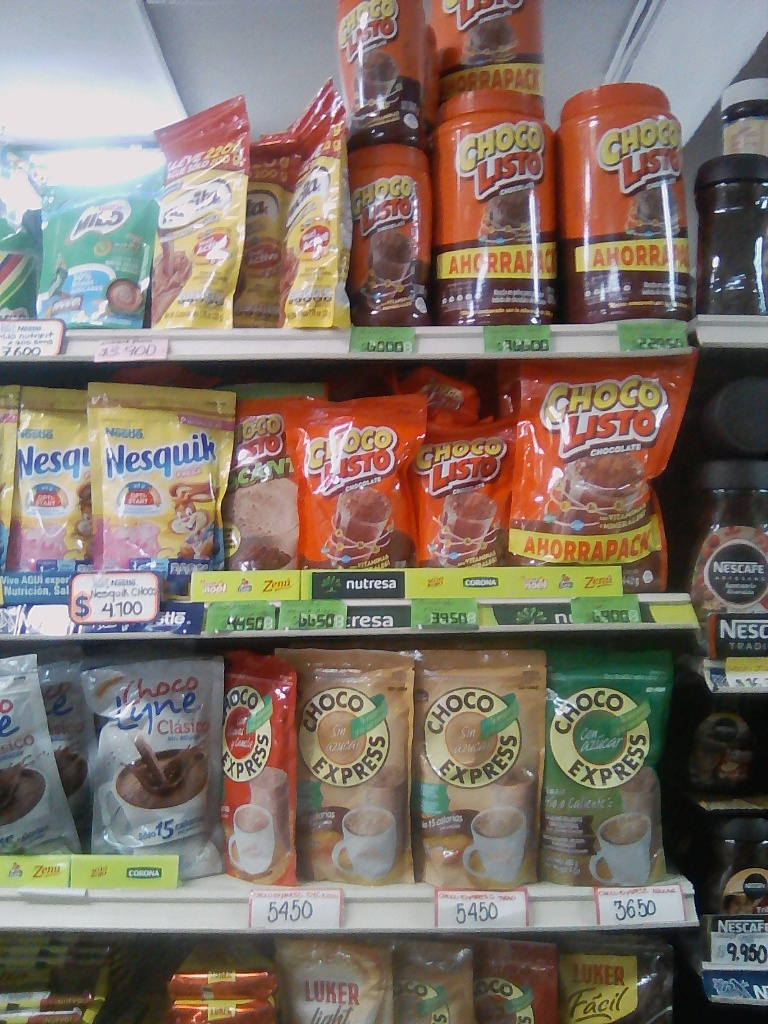COL0170102DYP25000: (226, 379, 307, 569)
COL0170103DYP44000: (515, 352, 692, 594)
COL0170103TRR00100: (422, 86, 559, 326)
COL0170103TRR30000: (353, 139, 431, 325)
COL0170205DYP20000: (38, 163, 159, 328)
COL0170305DYP20000: (3, 378, 92, 570)
